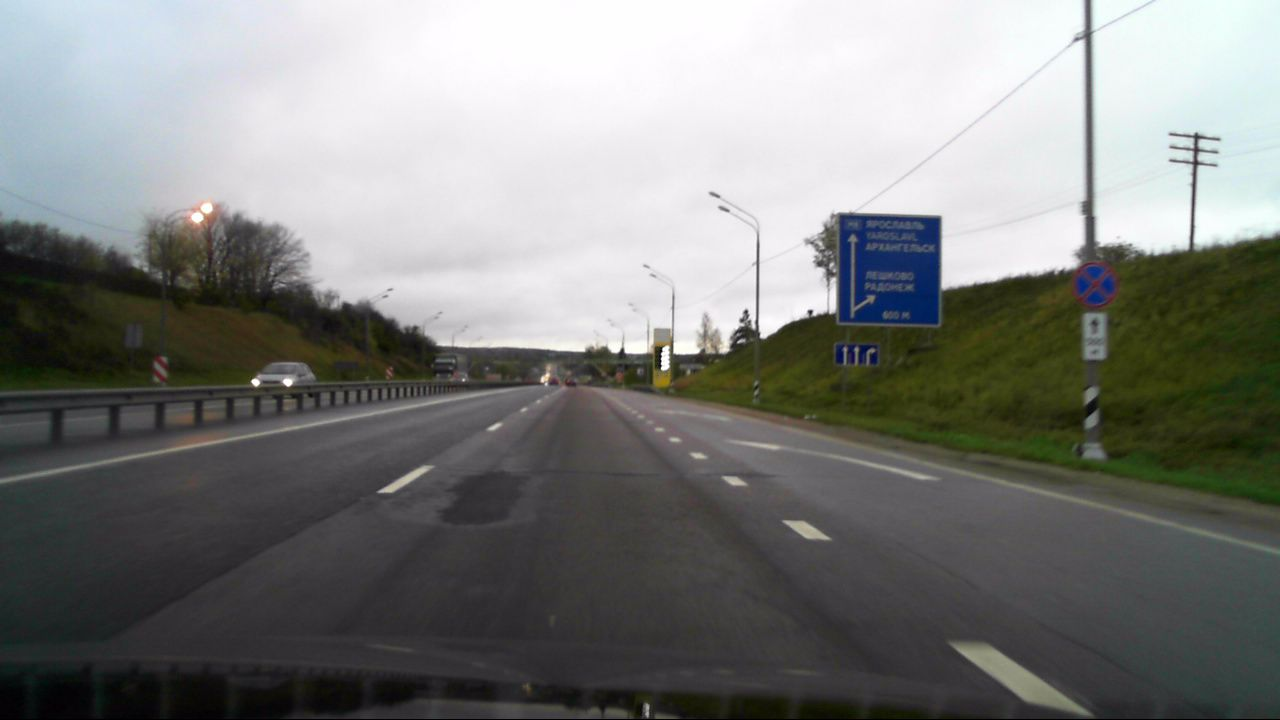No Parking: (1073, 262, 1116, 308)
